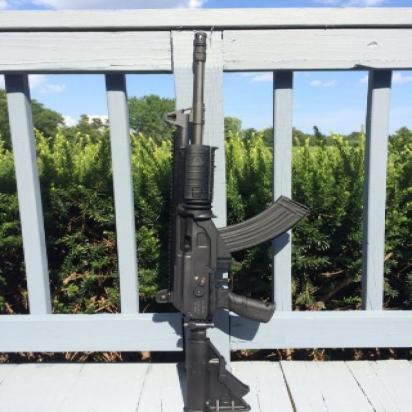Gun: (146, 19, 314, 410)
